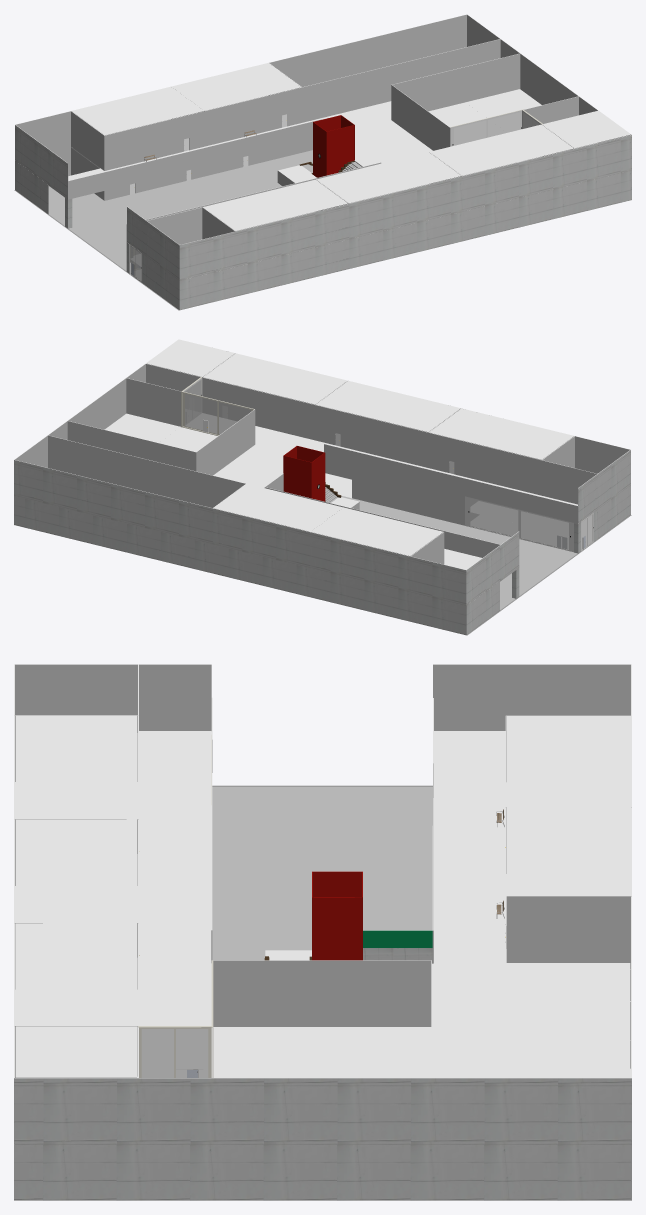
Rendered from IFRSCERTO.obj.
The picture shows the model from 3 angles, top to bottom: view 1: azimuth 30°, elevation 25°; view 2: azimuth 150°, elevation 25°; view 3: azimuth 270°, elevation 25°; orthographic projection. The views are drawn at different scales.
Visible parts, largest first — view 1: wall_23_137, wall_18_107, wall_61_365, wall_62_371, room_76_402, wall_5_29, wall_31_185, room_85_419, room_84_417, room_83_415, wall_60_359, room_73_398 (+28 smaller); view 2: wall_16_95, wall_30_178, wall_62_370, wall_61_364, wall_63_376, wall_6_34, room_85_419, room_84_417, room_83_415, wall_64_382, room_75_401, wall_1_5 (+31 smaller); view 3: wall_37_220, wall_20_118, room_75_401, wall_12_73, wall_29_174, wall_28_166, room_84_417, room_85_419, room_83_415, room_73_398, wall_12_72, room_74_400 (+18 smaller).
Part boxes in pixels (bbox=[...]): wall_23_137: bbox=[179, 135, 631, 280]; wall_18_107: bbox=[179, 170, 631, 310]; wall_61_365: bbox=[205, 39, 500, 146]; wall_62_371: bbox=[269, 14, 466, 87]; room_76_402: bbox=[49, 150, 312, 228]; wall_5_29: bbox=[68, 119, 321, 199]; wall_31_185: bbox=[392, 53, 520, 111]; room_85_419: bbox=[203, 180, 347, 230]; room_84_417: bbox=[317, 152, 460, 203]; room_83_415: bbox=[430, 124, 573, 175]; wall_60_359: bbox=[104, 111, 204, 170]; room_73_398: bbox=[72, 87, 203, 135]; wall_16_95: bbox=[146, 364, 596, 504]; wall_30_178: bbox=[14, 496, 466, 635]; wall_62_370: bbox=[14, 460, 212, 544]; wall_61_364: bbox=[48, 435, 308, 531]; wall_63_376: bbox=[310, 532, 466, 606]; wall_6_34: bbox=[324, 444, 578, 524]; room_85_419: bbox=[429, 408, 573, 459]; room_84_417: bbox=[316, 381, 460, 431]; room_83_415: bbox=[203, 353, 347, 404]; wall_64_382: bbox=[212, 508, 309, 568]; room_75_401: bbox=[341, 496, 577, 595]; wall_1_5: bbox=[352, 469, 464, 525]; wall_37_220: bbox=[14, 1078, 631, 1144]; wall_20_118: bbox=[14, 1145, 630, 1200]; room_75_401: bbox=[212, 787, 431, 960]; wall_12_73: bbox=[434, 781, 531, 1077]; wall_29_174: bbox=[113, 731, 211, 1077]; wall_28_166: bbox=[213, 960, 431, 1026]; room_84_417: bbox=[15, 819, 137, 922]; room_85_419: bbox=[15, 715, 137, 818]; room_83_415: bbox=[15, 923, 137, 1025]; room_73_398: bbox=[506, 715, 630, 806]; wall_12_72: bbox=[532, 963, 630, 1077]; room_74_400: bbox=[506, 807, 630, 895].
Bounding box in the file's own units: 8013 × 1103 × 5044.
